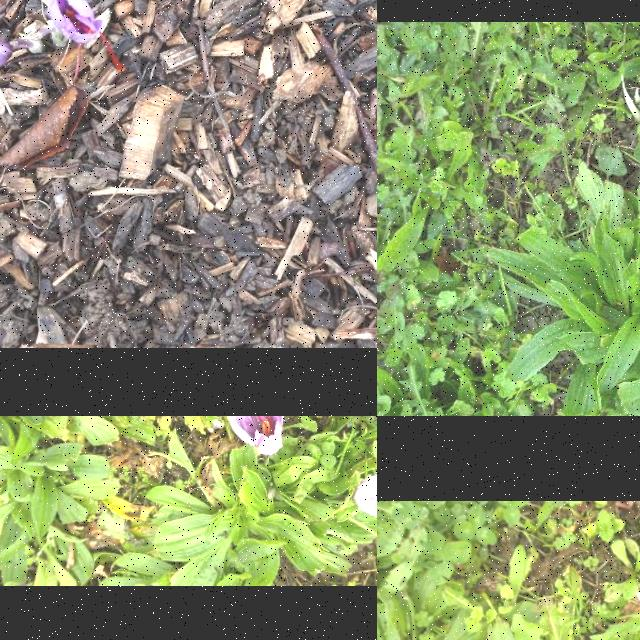flower: (50, 0, 123, 71), (228, 416, 286, 456), (352, 471, 377, 518), (0, 41, 13, 77)
